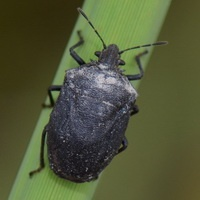insect: (29, 8, 166, 181)
